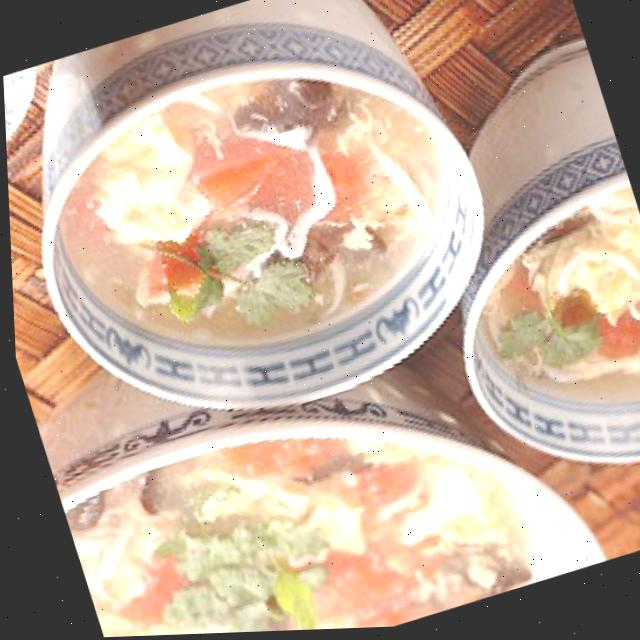汤锅炖物: (0, 0, 507, 454), (25, 265, 605, 640), (397, 38, 640, 507)
